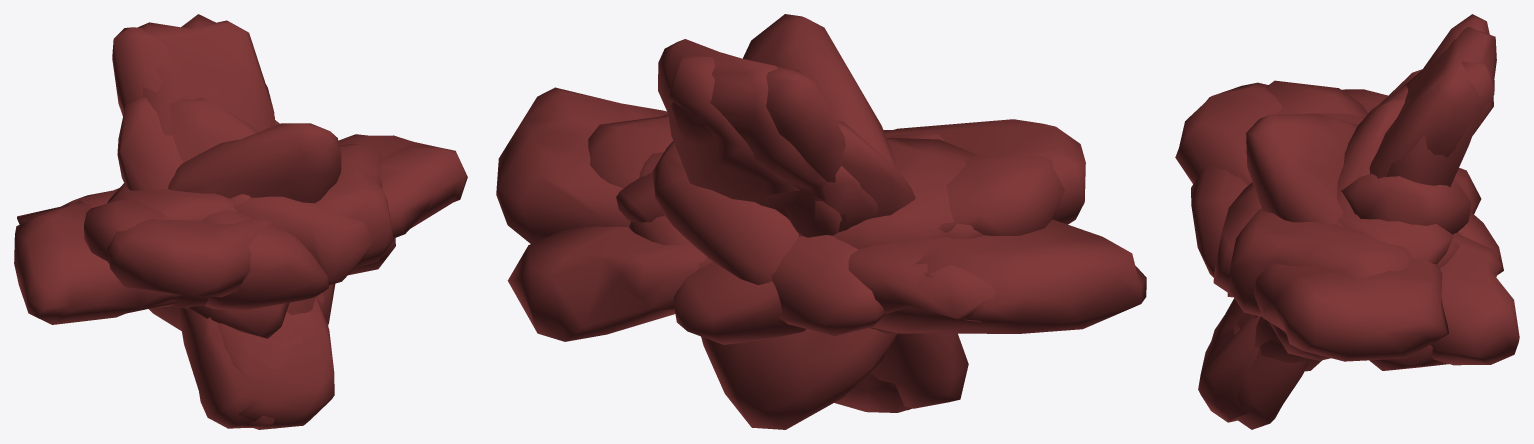
File: rocks.FBX
3 renders of one model, left to right at view 1: azimuth 30°, elevation 25°; view 2: azimuth 150°, elevation 25°; view 3: azimuth 270°, elevation 25°, orthographic. The views are drawn at different scales.
Parts seen in each view (by area): view 1: rock07, rock11, rock06, rock13, rock00, rock10, rock09, rock14, rock03, rock18, rock17, rock21 (+2 smaller); view 2: rock11, rock13, rock06, rock00, rock09, rock07, rock12, rock16, rock14, rock21, rock17, rock10 (+4 smaller); view 3: rock11, rock13, rock07, rock06, rock09, rock12, rock10, rock17, rock00, rock18, rock16, rock14 (+4 smaller).
Part boxes in pixels (box(x1,y1,x2,y2)): rock07: box(137, 20, 334, 429); rock11: box(14, 134, 467, 324); rock06: box(149, 123, 341, 330); rock13: box(107, 216, 271, 297); rock00: box(177, 14, 303, 428); rock10: box(203, 210, 329, 309); rock09: box(17, 143, 393, 313); rock14: box(114, 188, 373, 284); rock03: box(117, 97, 335, 323); rock18: box(169, 98, 332, 321); rock17: box(112, 27, 328, 428); rock21: box(107, 183, 395, 275); rock11: box(496, 87, 1146, 333); rock13: box(507, 119, 1085, 341); rock06: box(701, 14, 896, 429); rock00: box(666, 55, 968, 408); rock09: box(588, 114, 996, 330); rock07: box(658, 39, 909, 410); rock12: box(652, 141, 798, 284); rock16: box(938, 154, 1064, 235); rock14: box(771, 235, 885, 335); rock21: box(833, 138, 983, 249); rock17: box(766, 66, 911, 412); rock10: box(674, 130, 943, 344); rock11: box(1254, 89, 1448, 361); rock13: box(1175, 82, 1519, 365); rock07: box(1198, 26, 1496, 422); rock06: box(1246, 113, 1357, 224); rock09: box(1229, 208, 1411, 316); rock12: box(1227, 173, 1470, 297); rock10: box(1191, 148, 1503, 277); rock17: box(1236, 14, 1489, 429); rock00: box(1211, 61, 1494, 339); rock18: box(1253, 84, 1408, 347); rock16: box(1266, 80, 1448, 370); rock14: box(1213, 168, 1481, 295).
Bounding box in the file's own units: 328 × 234 × 196.
